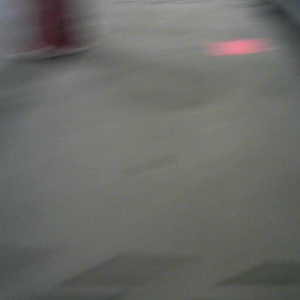middle: (9, 1, 103, 64)
